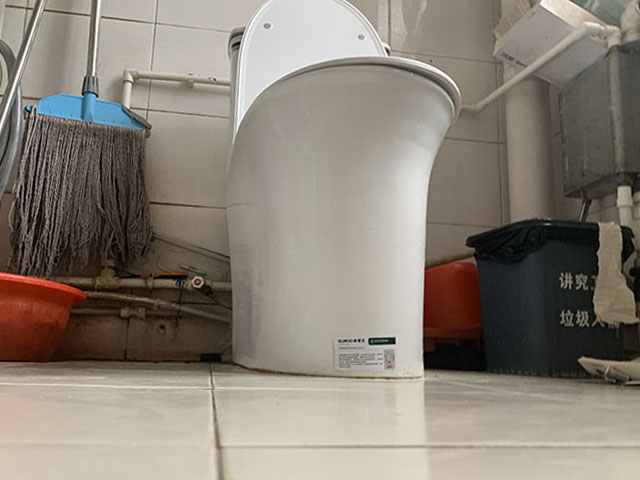closestool: (223, 1, 471, 378)
